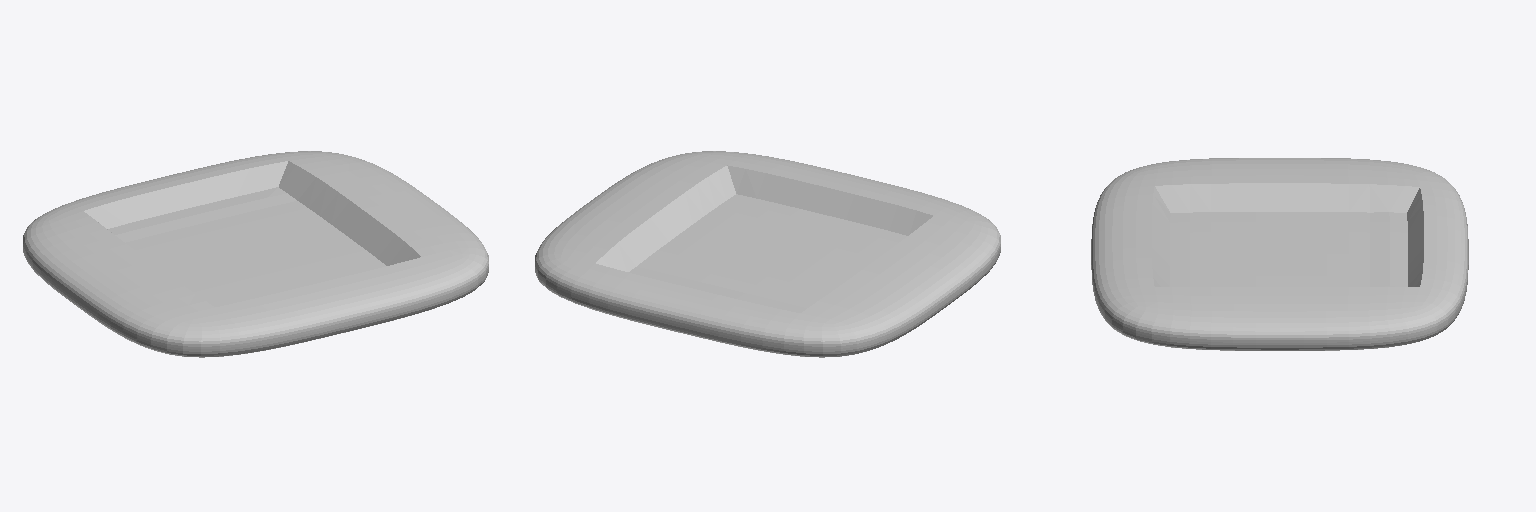
Rendered from 01_table.obj.
The picture shows the model from 3 angles: view 1: azimuth 30°, elevation 25°; view 2: azimuth 150°, elevation 25°; view 3: azimuth 270°, elevation 25°; orthographic projection.
Parts seen in each view (by area): view 1: tabletop_Cube; view 2: tabletop_Cube; view 3: tabletop_Cube.
Part boxes in pixels (left/top/right/bottom): tabletop_Cube: left=23, top=151, right=488, bottom=357; tabletop_Cube: left=535, top=151, right=1000, bottom=357; tabletop_Cube: left=1091, top=158, right=1468, bottom=350.
Bounding box in the file's own units: 2.73 × 0.2997 × 2.46.